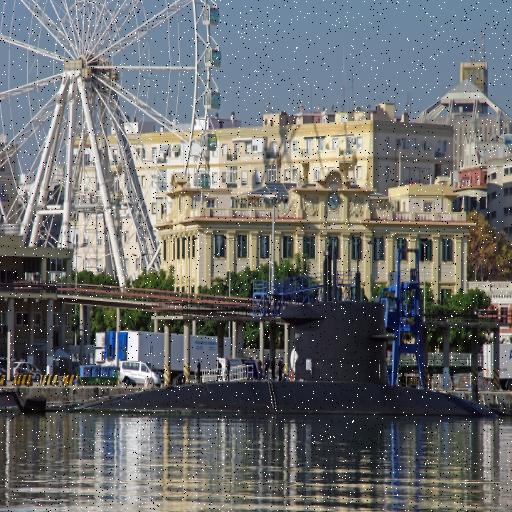submarine: (79, 302, 497, 417)
